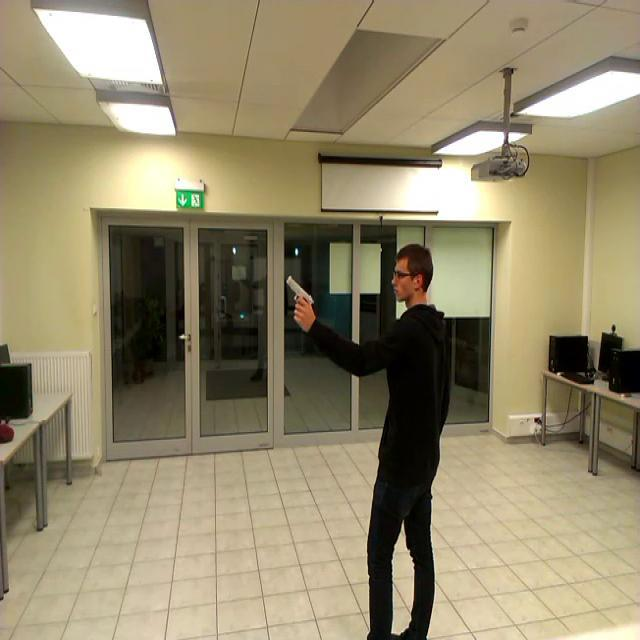Gun: (288, 274, 316, 319)
